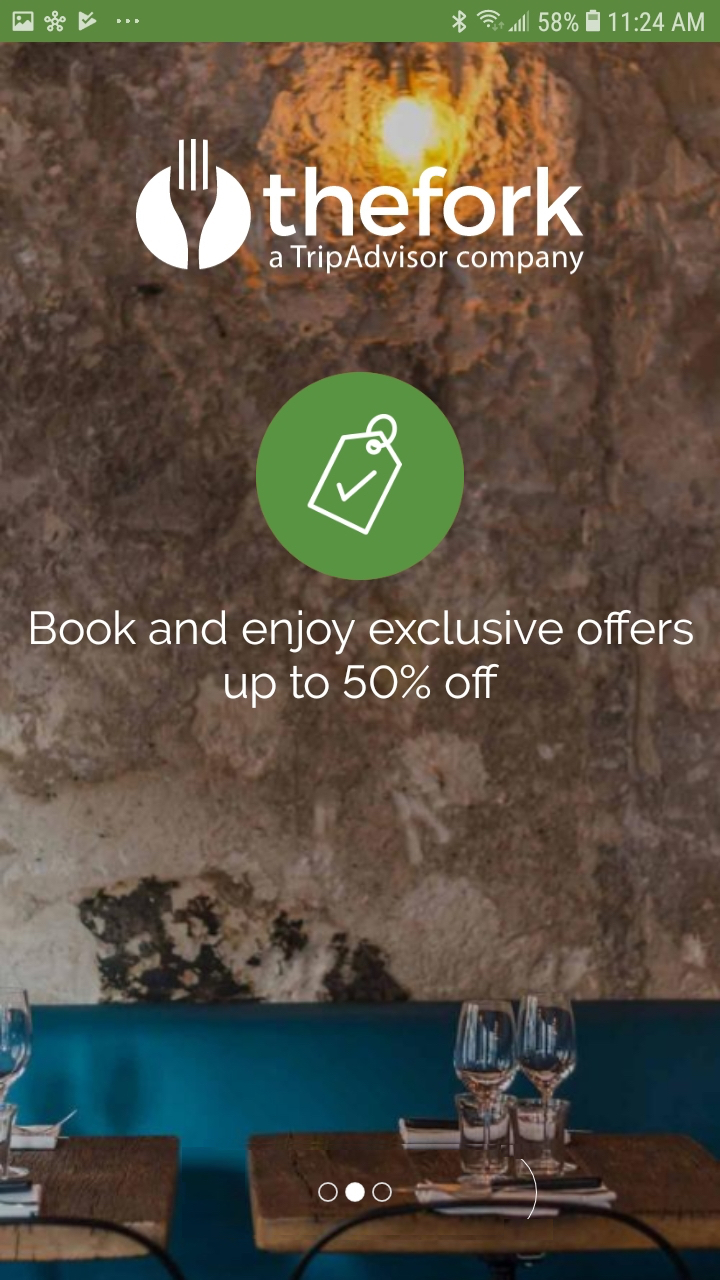BackgroundImage: (1, 43, 720, 1280)
Image: (256, 372, 466, 581), (136, 139, 252, 271)
PageIndicator: (318, 1181, 394, 1204)
Text: (31, 610, 694, 710), (263, 167, 584, 276)
UpperTaskBar: (1, 1, 720, 43)
